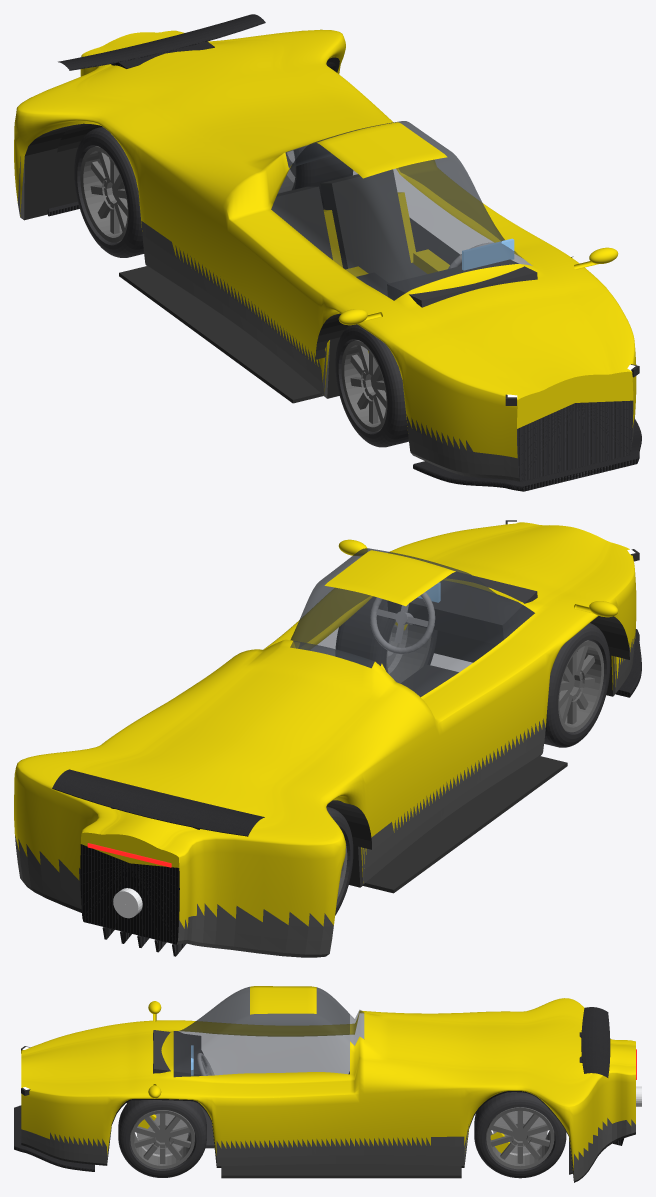
File: mclaren-p1.glb
The picture shows the model from 3 angles, top to bottom: view 1: azimuth 30°, elevation 25°; view 2: azimuth 150°, elevation 25°; view 3: azimuth 270°, elevation 25°; orthographic projection. The views are drawn at different scales.
Parts seen in each view (by area): view 1: Body_PrimaryPaint, Glass_Windows, Carbon_Exterior, Body_SecondaryPaint, Interior_Seats, WheelWells, Underbody, Tire_FR, Rim_RR, Tire_RR, Rim_FR, Interior_Dashboard (+3 smaller); view 2: Body_PrimaryPaint, Glass_Windows, Body_SecondaryPaint, Carbon_Exterior, WheelWells, Interior_Dashboard, Rim_FR, Tire_FR, Tire_FL, Underbody, Interior_SteeringWheel, Rim_FL (+3 smaller); view 3: Body_PrimaryPaint, Glass_Windows, Body_SecondaryPaint, WheelWells, Tire_FL, Carbon_Exterior, Tire_RL, Rim_RL, Rim_FL, Interior_Dashboard, Underbody, BrakeDisc_RL (+1 smaller).
Part boxes in pixels (x1,y1,x2,y2): Body_PrimaryPaint: [14, 29, 636, 458]; Glass_Windows: [271, 121, 532, 300]; Carbon_Exterior: [47, 14, 641, 491]; Body_SecondaryPaint: [17, 156, 635, 481]; Interior_Seats: [271, 169, 426, 283]; WheelWells: [57, 123, 573, 403]; Underbody: [24, 57, 340, 398]; Tire_FR: [335, 324, 408, 447]; Rim_RR: [80, 146, 128, 242]; Tire_RR: [74, 126, 143, 257]; Rim_FR: [341, 340, 387, 431]; Interior_Dashboard: [387, 259, 537, 307]; Body_PrimaryPaint: [14, 522, 636, 928]; Glass_Windows: [290, 548, 534, 696]; Body_SecondaryPaint: [15, 633, 635, 957]; Carbon_Exterior: [52, 629, 641, 956]; WheelWells: [326, 616, 629, 893]; Interior_Dashboard: [387, 572, 537, 644]; Rim_FR: [558, 640, 603, 732]; Tire_FR: [544, 623, 610, 747]; Tire_FL: [335, 596, 437, 671]; Underbody: [24, 630, 612, 912]; Interior_SteeringWheel: [370, 592, 435, 654]; Rim_FL: [386, 621, 431, 683]; Body_PrimaryPaint: [21, 986, 635, 1170]; Glass_Windows: [173, 986, 364, 1077]; Body_SecondaryPaint: [21, 1118, 635, 1181]; WheelWells: [221, 1164, 461, 1178]; Tire_FL: [118, 1100, 206, 1177]; Carbon_Exterior: [14, 1007, 623, 1174]; Tire_RL: [474, 1092, 566, 1178]; Rim_RL: [486, 1107, 554, 1169]; Rim_FL: [130, 1110, 194, 1168]; Interior_Dashboard: [153, 1030, 201, 1077]; Underbody: [21, 1091, 635, 1182]; BrakeDisc_RL: [493, 1111, 547, 1155].
Bounding box in the file's own units: 1.95 × 1.18 × 4.69.
17 materials, 2 textured.
